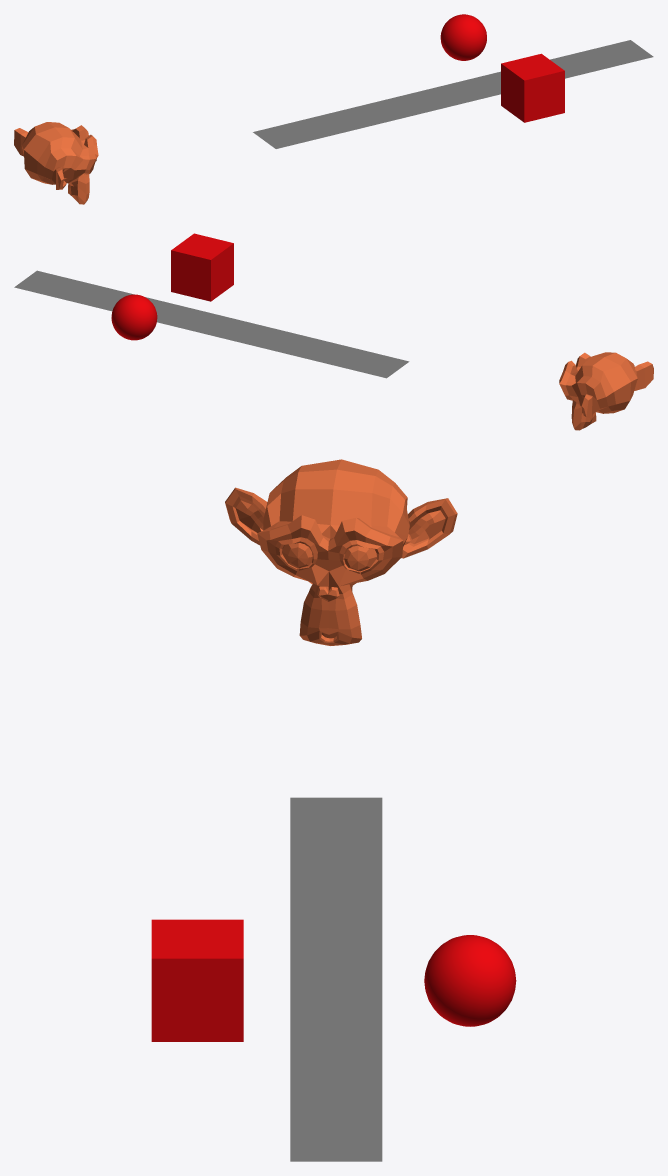
3 renders of one model, top to bottom at view 1: azimuth 30°, elevation 25°; view 2: azimuth 150°, elevation 25°; view 3: azimuth 270°, elevation 25°, orthographic. The views are drawn at different scales.
Visible parts, largest first — view 1: Plane, Suzanne, purchaseCube, refiSphere; view 2: Plane, Suzanne, purchaseCube, refiSphere; view 3: Plane, Suzanne, purchaseCube, refiSphere.
Part boxes in pixels (x1,y1,x2,y2): Plane: (253, 40, 653, 148); Suzanne: (14, 122, 98, 204); purchaseCube: (501, 53, 564, 122); refiSphere: (440, 14, 486, 60); Plane: (14, 270, 409, 378); Suzanne: (559, 352, 653, 430); purchaseCube: (171, 233, 233, 301); refiSphere: (111, 294, 157, 340); Plane: (290, 797, 382, 1161); Suzanne: (225, 459, 457, 645); purchaseCube: (151, 919, 243, 1041); refiSphere: (424, 935, 516, 1026).
Size of the model in its own units: 3052 by 367 by 793.
